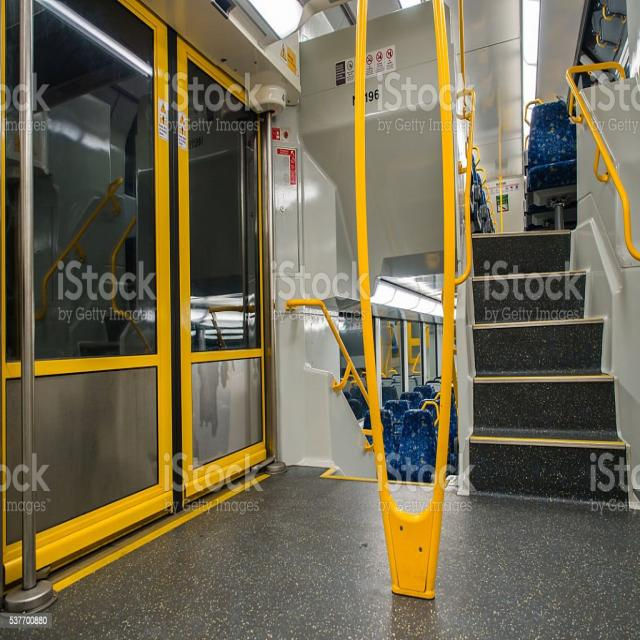Staircase: (472, 210, 638, 517)
column: (350, 0, 388, 527), (430, 13, 469, 519)
door: (24, 4, 176, 523), (170, 38, 290, 466)
